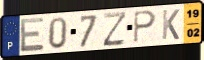0: (47, 16, 69, 50)
7: (80, 13, 99, 48)
E: (19, 16, 45, 54)
K: (161, 8, 181, 41)
P: (133, 9, 157, 44)
Z: (102, 10, 128, 48)
